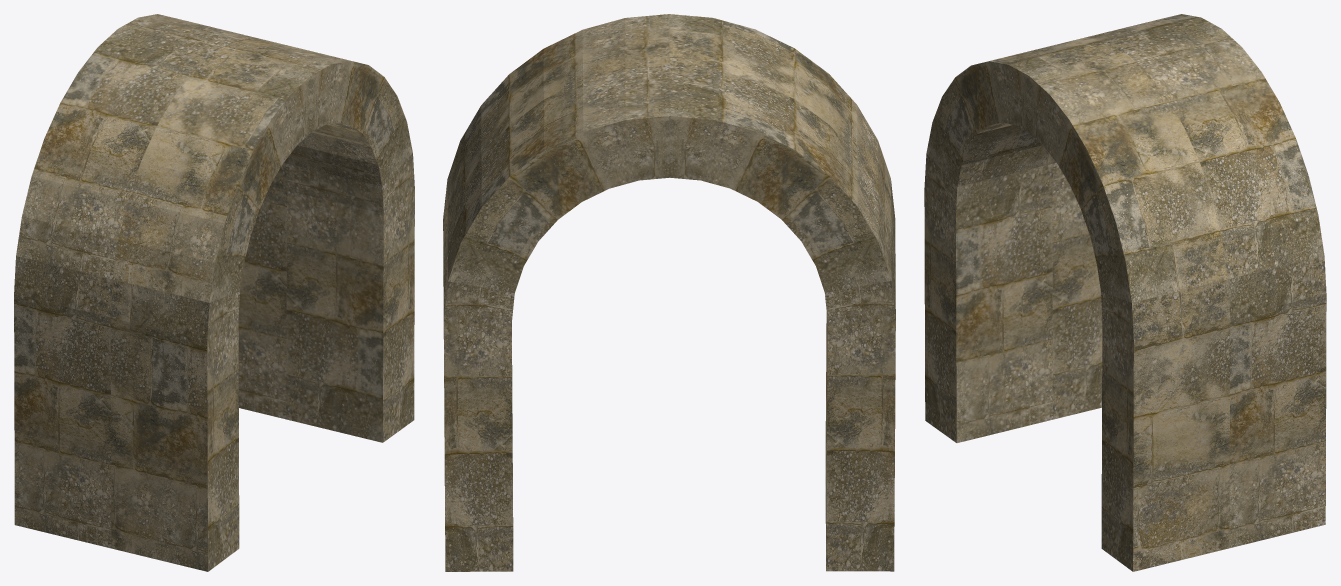
File: CastleArkRound.fbx
3 renders of one model, left to right at view 1: azimuth 30°, elevation 25°; view 2: azimuth 150°, elevation 25°; view 3: azimuth 270°, elevation 25°, orthographic. The views are drawn at different scales.
Visible parts, largest first — view 1: CastleTower.017; view 2: CastleTower.017; view 3: CastleTower.017.
Boxes of the visible parts, x1,y1,x2,y2 form: CastleTower.017: [14, 14, 414, 571]; CastleTower.017: [443, 14, 895, 571]; CastleTower.017: [924, 14, 1326, 571].
Bounding box in the file's own units: 211 × 207 × 180.
